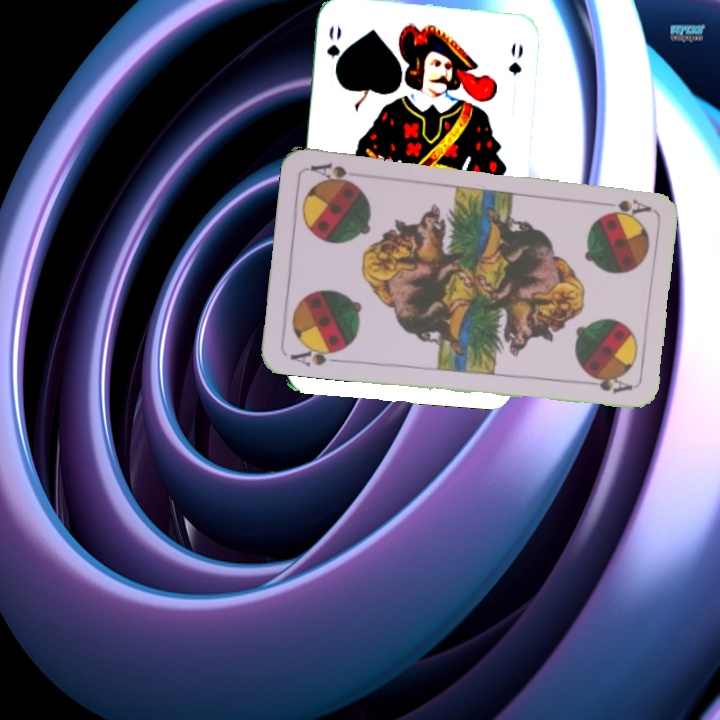GO: (323, 21, 344, 81)
SA: (286, 341, 345, 369), (594, 195, 652, 217)
